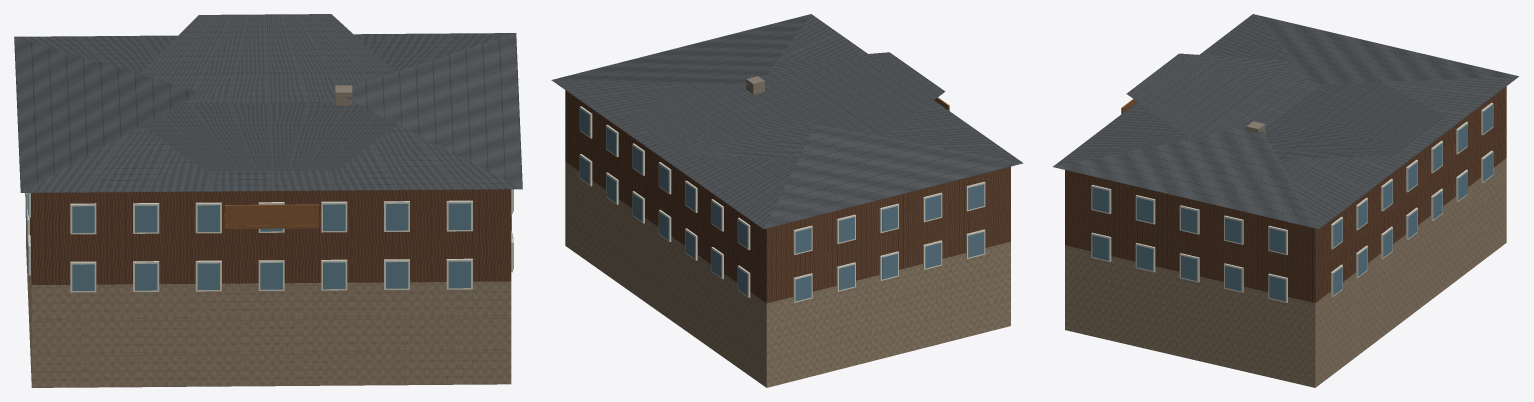
Rendered from core_0068.gltf.
3 views of the same model, side by side, from view 1: azimuth 30°, elevation 25°; view 2: azimuth 150°, elevation 25°; view 3: azimuth 270°, elevation 25° (orthographic). The views are drawn at different scales.
Visible parts, largest first — view 1: core_0068; view 2: core_0068; view 3: core_0068.
Part boxes in pixels (bbox=[...]): core_0068: bbox=[14, 14, 522, 387]; core_0068: bbox=[551, 14, 1023, 387]; core_0068: bbox=[1053, 14, 1518, 387].
Bounding box in the file's own units: 27.49 × 10.95 × 25.19.
Materials: 7 (7 with a texture image).
